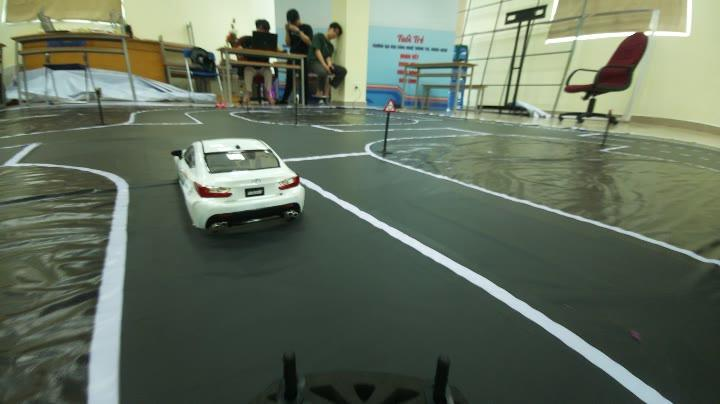car: (170, 138, 319, 240)
